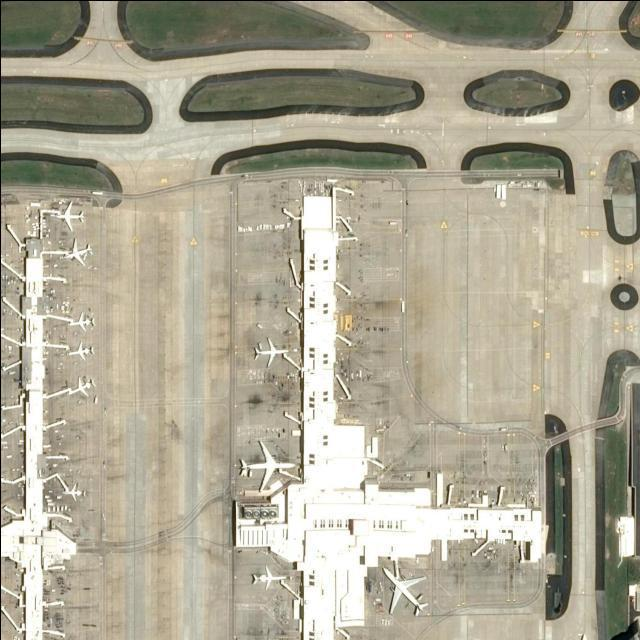Aircraft: (235, 439, 296, 493), (379, 567, 429, 617), (252, 336, 289, 368), (50, 201, 86, 231), (249, 565, 287, 593), (59, 237, 92, 268), (65, 376, 95, 399), (65, 311, 92, 333), (66, 343, 92, 363), (61, 483, 83, 501)
